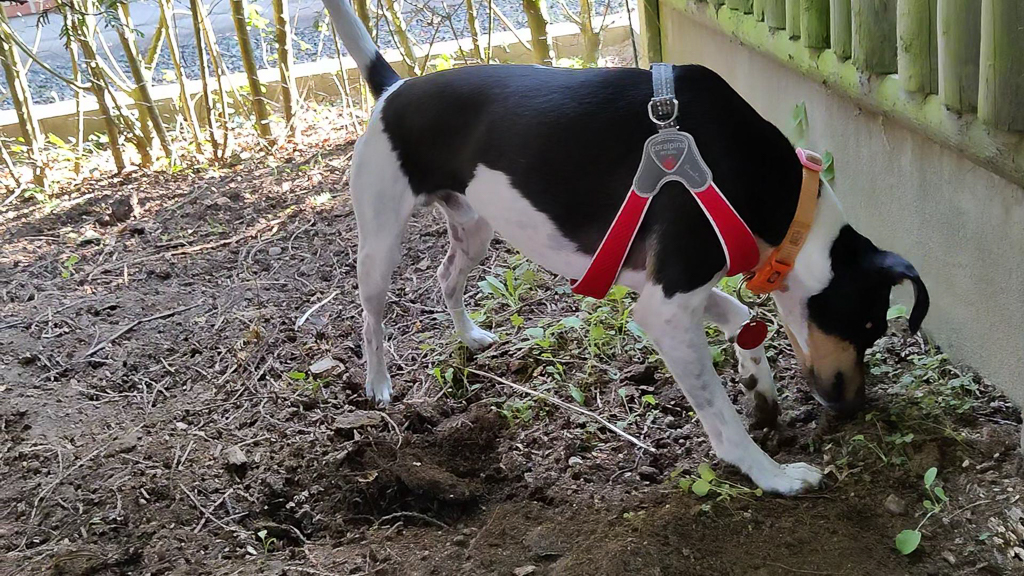Dog: (313, 0, 942, 504)
